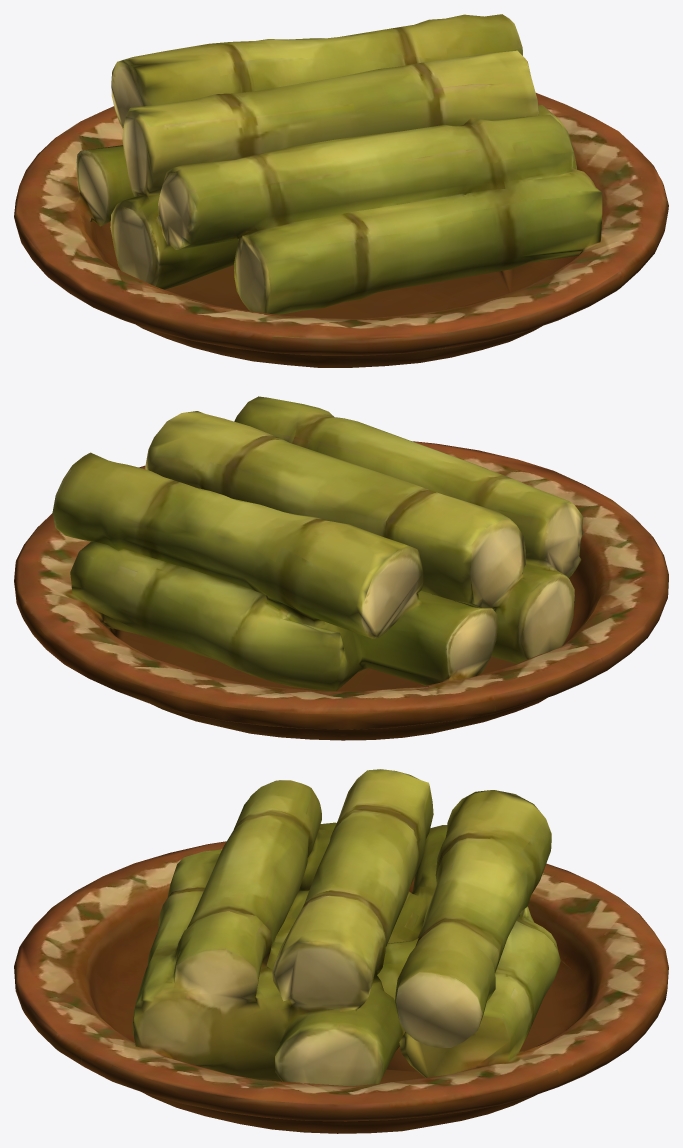
Rendered from cañas.glb.
3 renders of one model, top to bottom at view 1: azimuth 30°, elevation 25°; view 2: azimuth 150°, elevation 25°; view 3: azimuth 270°, elevation 25°, orthographic.
Visible parts, largest first — view 1: Mesh_0; view 2: Mesh_0; view 3: Mesh_0.
Part boxes in pixels (x1,y1,x2,y2): Mesh_0: (14,14,668,367); Mesh_0: (14,396,668,740); Mesh_0: (14,769,668,1133).
Size of the model in its own units: 0.3968 by 0.1198 by 0.3973.
1 material, 1 textured.
